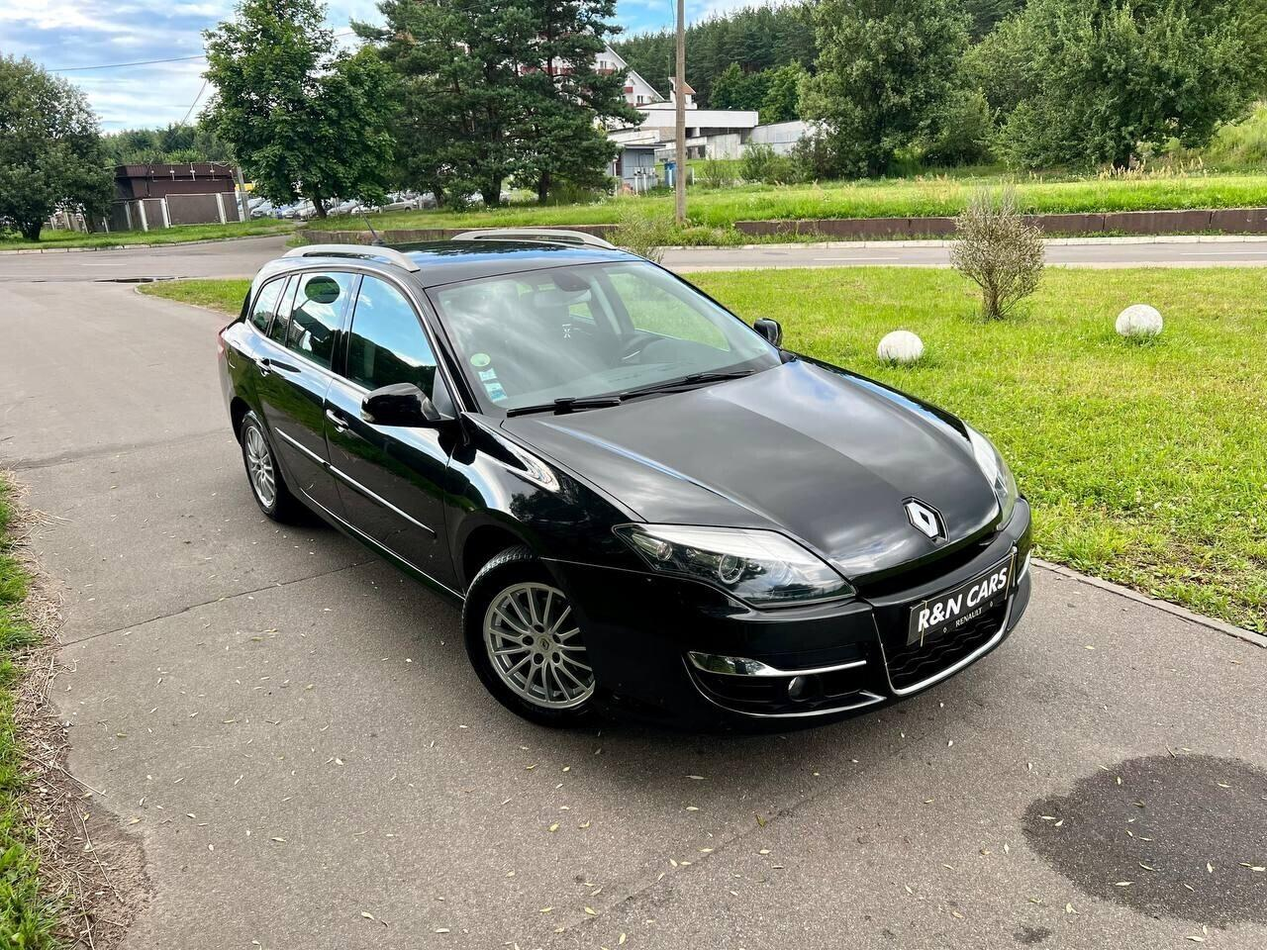Laguna_2010-2015: (212, 229, 1041, 736)
